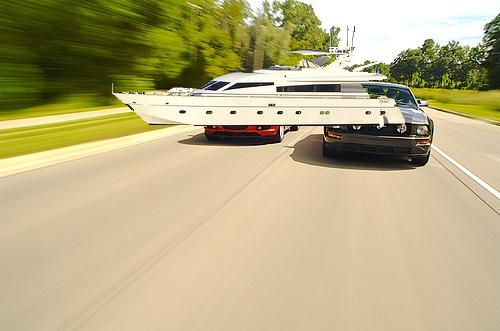tampered: (113, 26, 405, 126)
